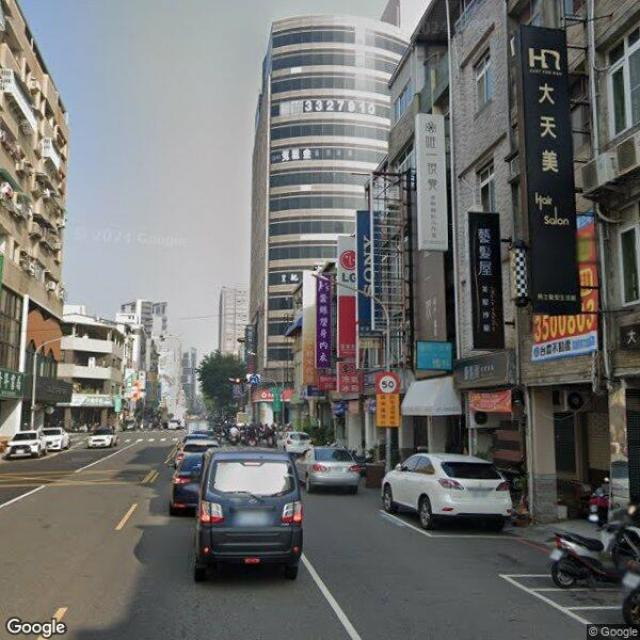Legalparking: (162, 420, 319, 620), (386, 451, 518, 530)
illegalparking: (302, 438, 356, 506)
